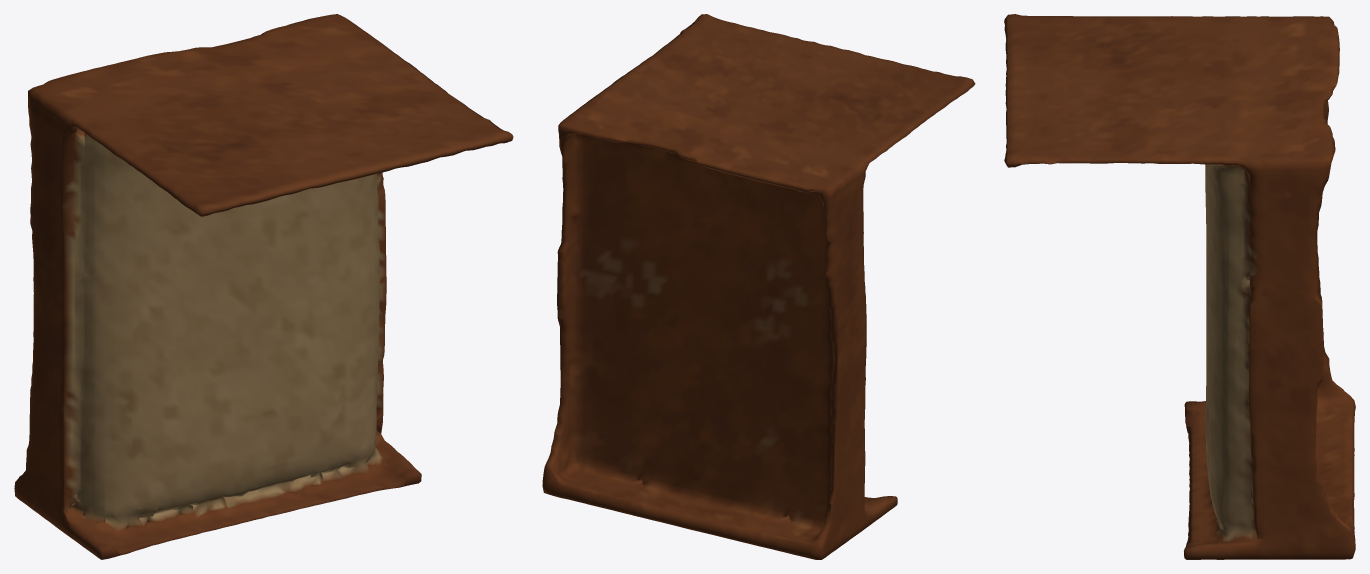
Rendered from a bed with sit affordance.obj.
The picture shows the model from 3 angles, left to right: view 1: azimuth 30°, elevation 25°; view 2: azimuth 150°, elevation 25°; view 3: azimuth 270°, elevation 25°; orthographic projection. The views are drawn at different scales.
Bounding box in the file's own units: 0.8072 × 1.01 × 0.7982.
